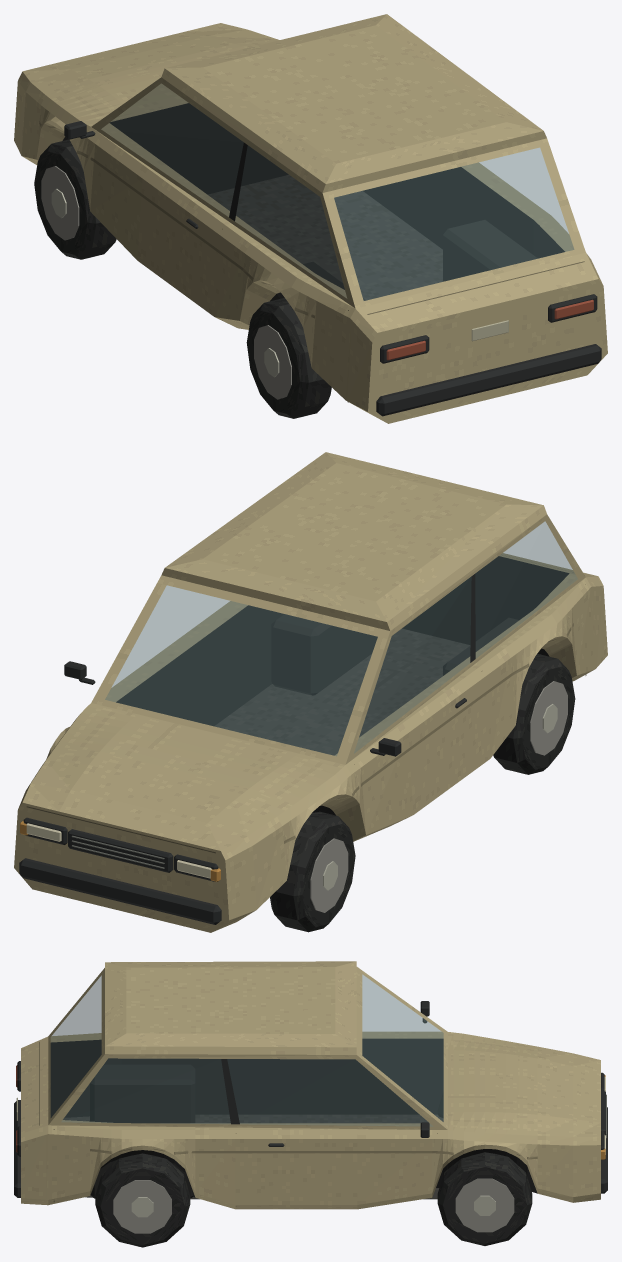
File: vehicle_compact.glb
3 views of the same model, one above another, from view 1: azimuth 30°, elevation 25°; view 2: azimuth 150°, elevation 25°; view 3: azimuth 270°, elevation 25° (orthographic). The views are drawn at different scales.
Visible parts, largest first — view 1: closed_body, glazing, roof_body; view 2: closed_body, glazing, roof_body; view 3: closed_body, glazing, roof_body.
Boxes of the visible parts, box(x1,y1,x2,y2) form: closed_body: box(14, 23, 607, 423); glazing: box(101, 83, 574, 300); roof_body: box(161, 14, 546, 192); closed_body: box(14, 514, 607, 932); glazing: box(105, 521, 577, 756); roof_body: box(161, 452, 546, 630); closed_body: box(14, 967, 607, 1247); glazing: box(50, 974, 443, 1126); roof_body: box(105, 961, 356, 1054).
Size of the model in its own units: 2.05 by 1.46 by 4.
2 materials, 2 textured.
